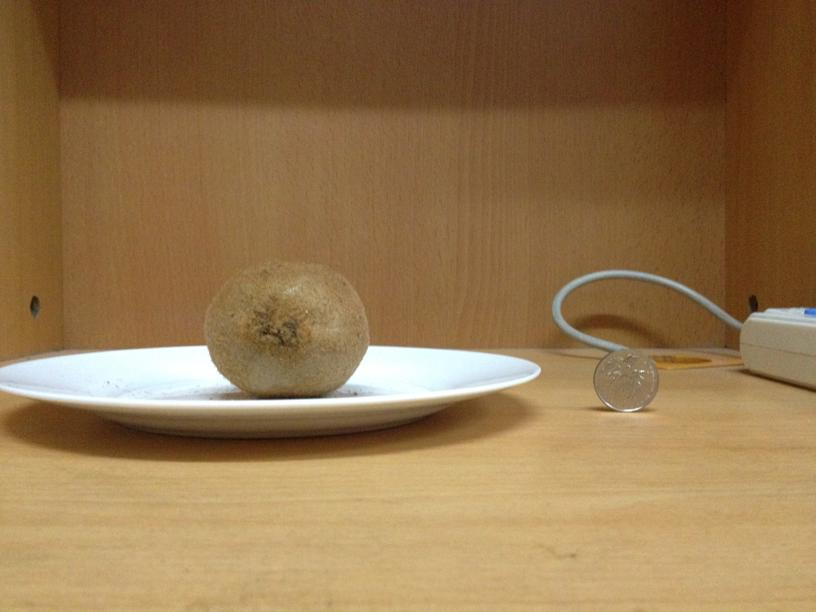coin: (592, 348, 659, 412)
qiwi: (202, 261, 369, 398)
